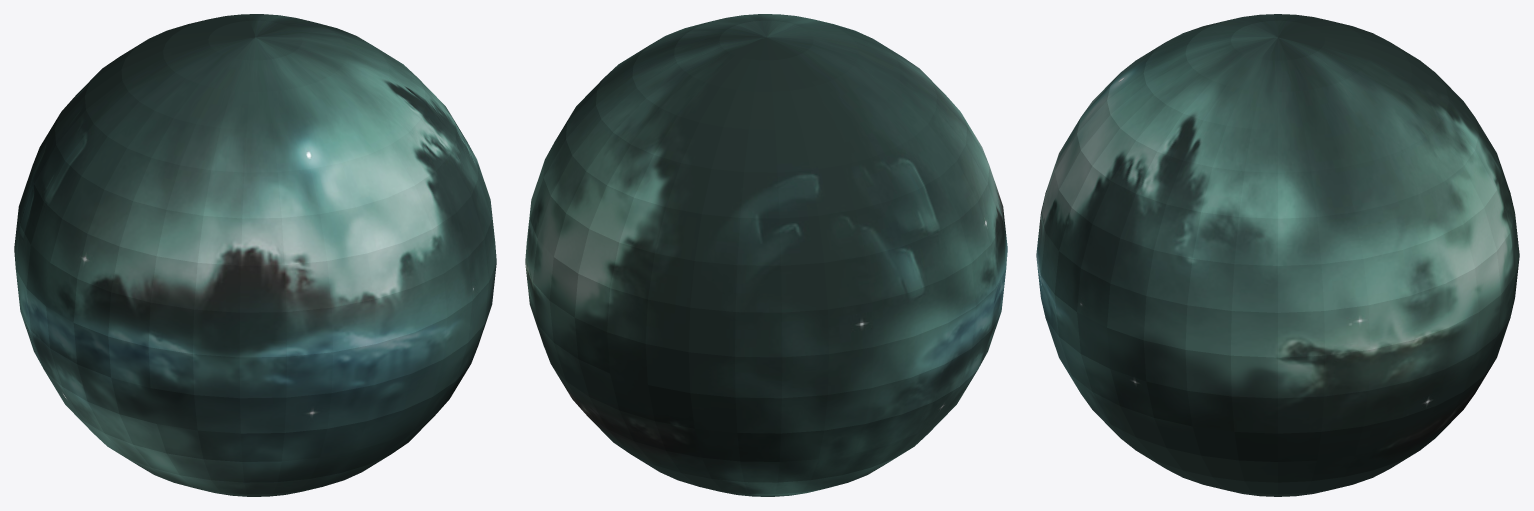
The model's file is skydome.obj.
The picture shows the model from 3 angles, left to right: view 1: azimuth 30°, elevation 25°; view 2: azimuth 150°, elevation 25°; view 3: azimuth 270°, elevation 25°; orthographic projection.
Visible parts, largest first — view 1: skydome; view 2: skydome; view 3: skydome.
Part boxes in pixels (x1,y1,x2,y2): skydome: (14,14,496,496); skydome: (525,14,1007,496); skydome: (1036,14,1519,496).
Bounding box in the file's own units: 4.8 × 4.74 × 4.8.
1 material, 1 textured.
